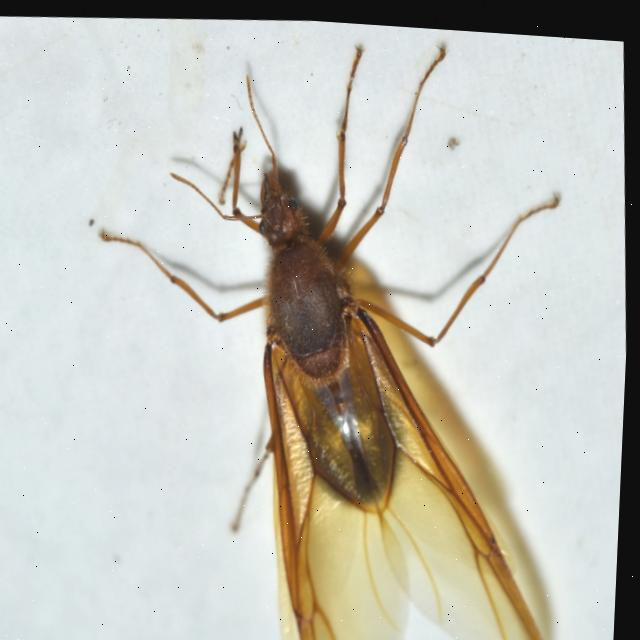Alive-Male-Alate: (74, 10, 592, 640)
